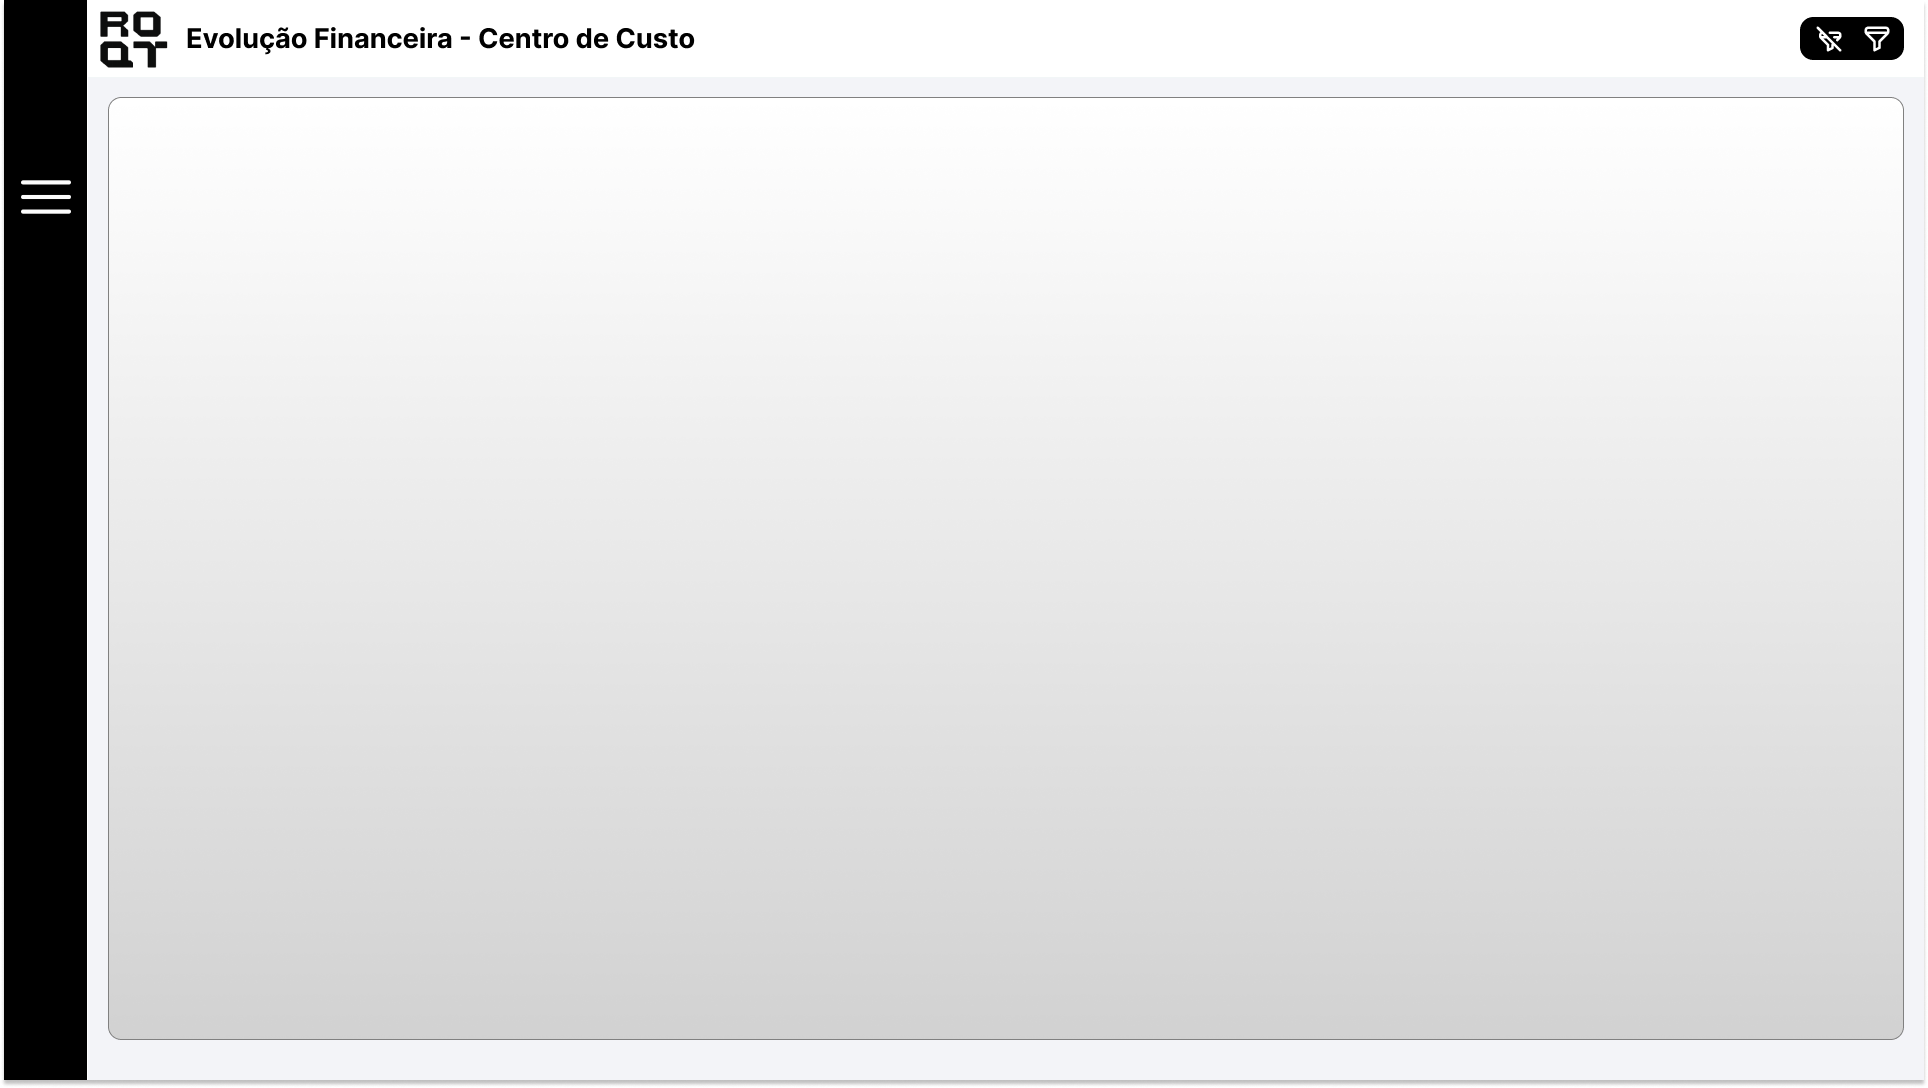

This screenshot's page, from the dashboard's own definition file:
{"tool":"powerbi","page":{"name":"Det. Centro de Custo","canvas":[1280,720],"ordinal":5},"visuals":[{"type":"group","id":"g1","title":"Geral","box":[0,11,1265.6,676.6],"z":0},{"type":"pivotTable","fields":{"Rows":["d_Plano_de_Contas.Categoria","d_Centro_de_Custo.Departamento","d_Centro_de_Custo.Nome","d_Centro_de_Custo.Gestor"],"Values":["Medidas.m_resultado_dre","Medidas.m_resultado_M_1","Medidas.m_seta_variacao_m1","Medidas.m_resultado_m_12","Medidas.m_seta_variacao_m12","Medidas.m_acumulado_ano","Medidas.m_acumulado_ano_anterior","Medidas.m_seta_acumulado"]},"box":[72,64.4,1193.6,623.2],"z":0,"group":"g1"},{"type":"actionButton","title":"botao - menu lateral","box":[0,110,57.5,40],"z":1000,"group":"g1"},{"type":"actionButton","title":"botao - limpa filtros","box":[1198.9,11.1,30,27.8],"z":2000,"group":"g1"},{"type":"actionButton","title":"botao - filtros","box":[1229,11,30,28],"z":3000,"group":"g1"}]}

Visuals, with their boxes on the page's 1280x720 design canvas (x1, y1, x2, y2). These are canvas units, not pixel positions in the 1928x1088 screenshot, which may show the page scaled, cropped or inside an application window:
"Geral" group: <region>0, 11, 1266, 688</region>
pivotTable - d_Plano_de_Contas.Categoria x d_Centro_de_Custo.Departamento: <region>72, 64, 1266, 688</region>
"botao - menu lateral" actionButton: <region>0, 110, 58, 150</region>
"botao - limpa filtros" actionButton: <region>1199, 11, 1229, 39</region>
"botao - filtros" actionButton: <region>1229, 11, 1259, 39</region>
